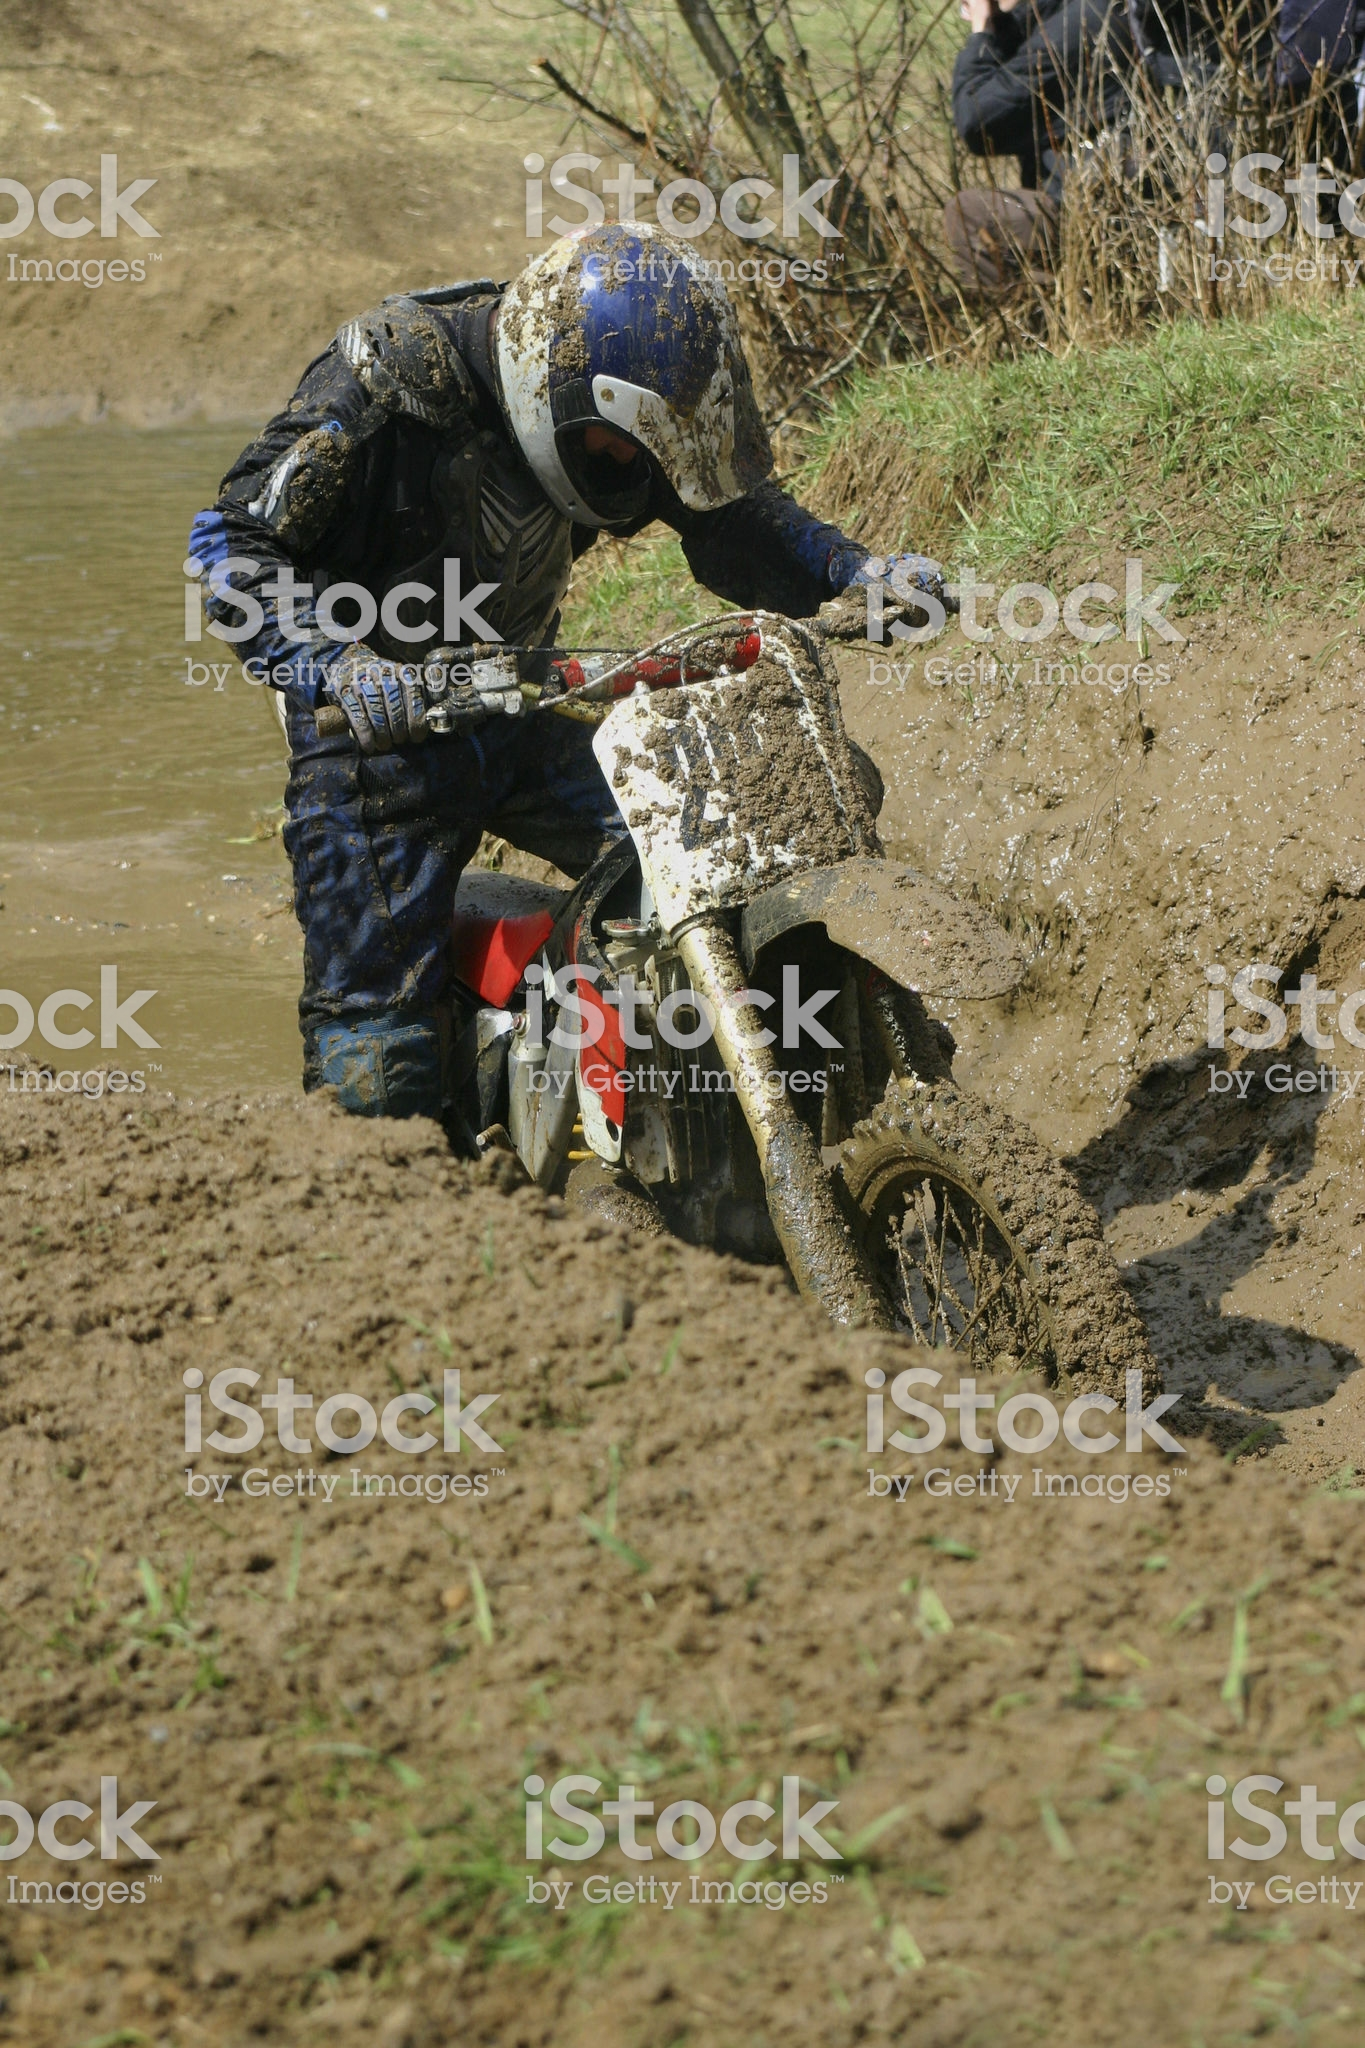helmet: (442, 172, 792, 531)
